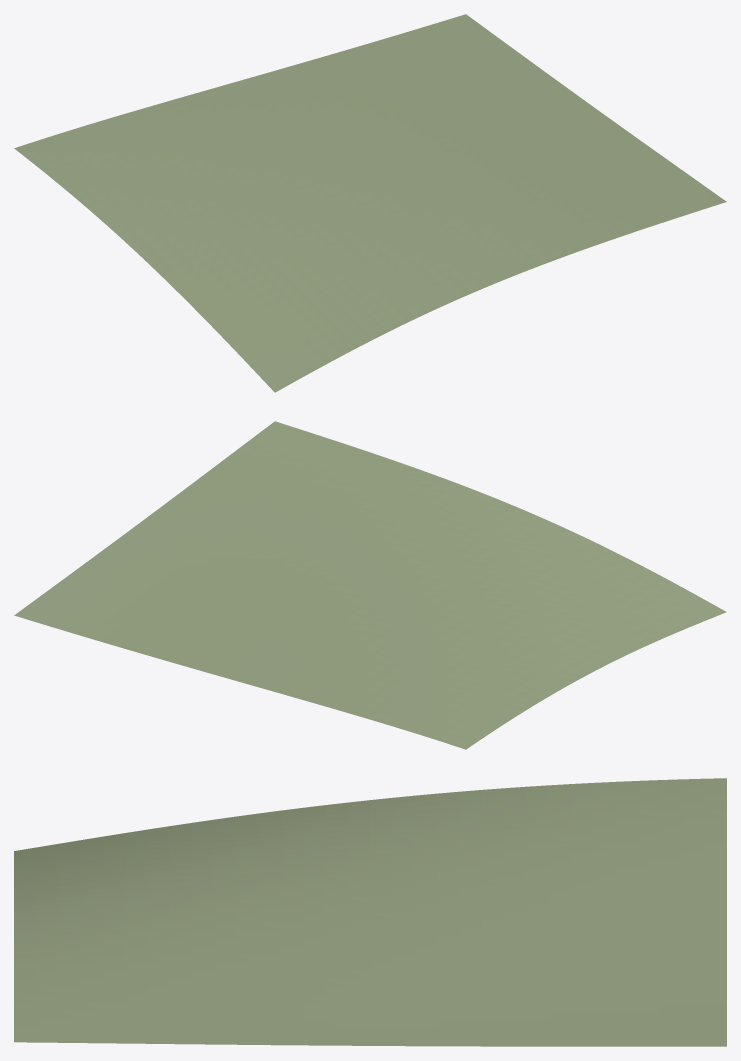
The model's file is expanse-9-8.glb.
3 views of the same model, one above another, from view 1: azimuth 30°, elevation 25°; view 2: azimuth 150°, elevation 25°; view 3: azimuth 270°, elevation 25° (orthographic). The views are drawn at different scales.
Parts seen in each view (by area): view 1: expanse-9-8; view 2: expanse-9-8; view 3: expanse-9-8.
Part boxes in pixels (x1,y1,x2,y2): expanse-9-8: (14,14,726,392); expanse-9-8: (14,421,726,749); expanse-9-8: (14,778,726,1046).
Size of the model in its own units: 256 by 43.63 by 256.
